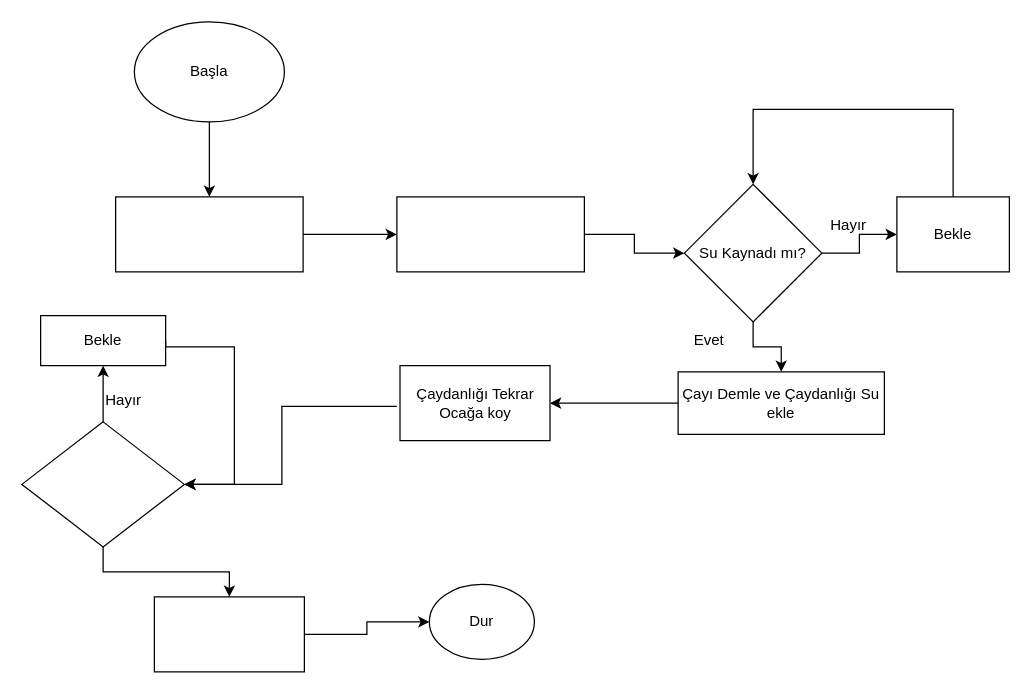
Image size: 1031x694. Some labels were removed from this diagram. Each missing label, with the centre of its shape:
"Servis Yap" belongs at (228,634).
"çay demini aldımı ve Su kaynadımı" belongs at (102,484).
"çaydanlığa su doldur" belongs at (208,234).
"Çaydanlığı ocağa koy ve bekle" belongs at (490,234).
